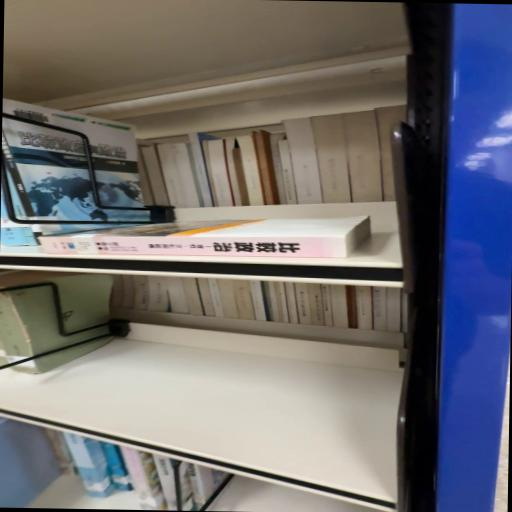flat: (41, 217, 372, 259)
